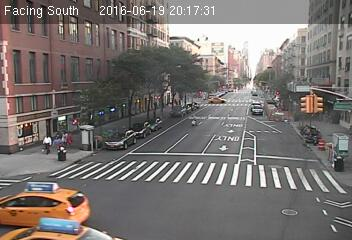pos: (39, 132, 55, 154), (50, 127, 64, 145), (55, 123, 69, 141)
